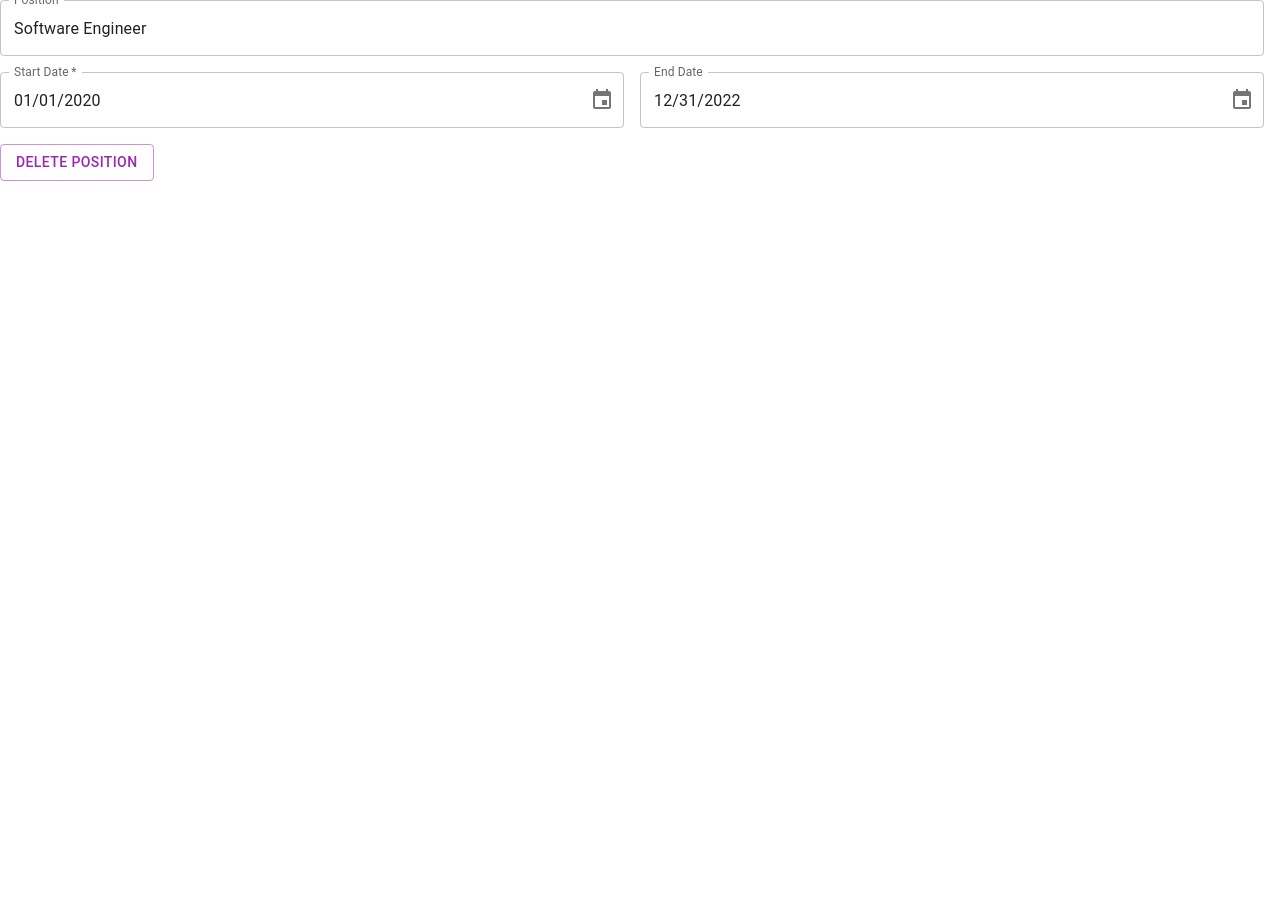
PositionFields › Delete functionality › opens confirmation dialog when delete button is clicked
Click the button "Delete Position": (77,162) [0,144,154,180]
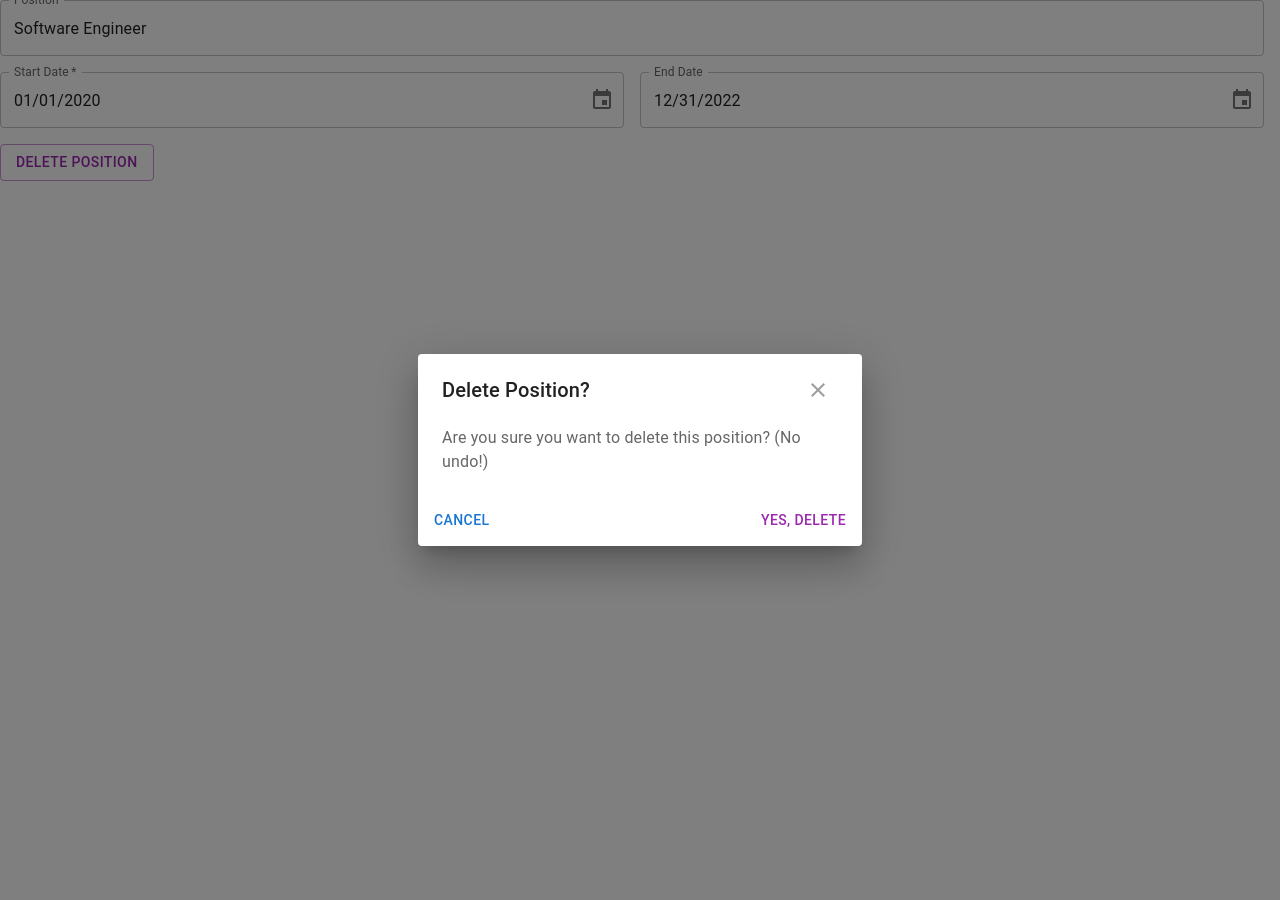
Now the dialog is shown, box [418,354,862,546]
Now the heading "Delete Position?" is shown, box [442,370,838,410]
